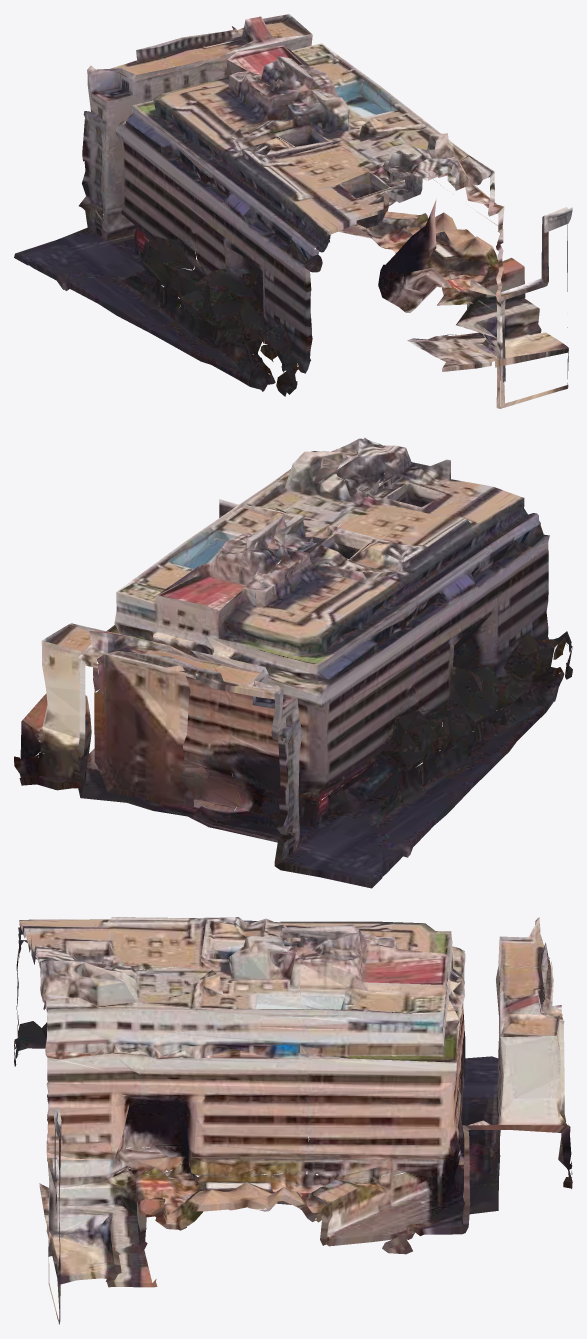
The picture shows the model from 3 angles, top to bottom: view 1: azimuth 30°, elevation 25°; view 2: azimuth 150°, elevation 25°; view 3: azimuth 270°, elevation 25°; orthographic projection. The views are drawn at different scales.
Visible parts, largest first — view 1: Mesh_0; view 2: Mesh_0; view 3: Mesh_0.
Part boxes in pixels (x1=…): Mesh_0: x1=14, y1=14, x2=572, y2=408; Mesh_0: x1=14, y1=437, x2=572, y2=888; Mesh_0: x1=14, y1=917, x2=572, y2=1324.
Bounding box in the file's own units: 67.52 × 50.92 × 82.57.
Materials: 1 (1 with a texture image).
